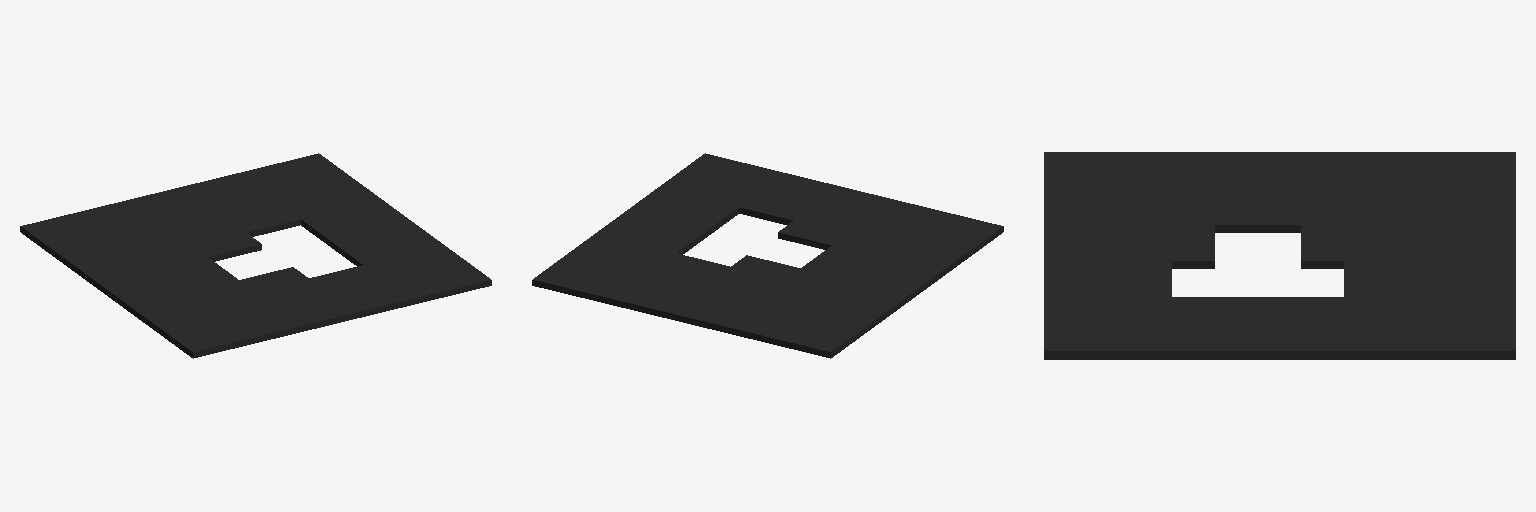
The robot description file, URDF, robot "Room104":
<robot name="Room104">
    <link name="_name">
        <visual> 
            <origin rpy="0.0 0.0 0.0" xyz="-0.4915450403617942 -0.5051182892298169 -0.009999999999999998" />
                <geometry>
                    <mesh filename="Room104/Room104.obj" scale="1 1 0.1" />
                </geometry>

            <material name="black">
                <color rgba="0.2 0.2 0.2 0.95" />
            </material>
        </visual>

       <collision concave="yes" name="collision_0">
            <origin rpy="0.0 0.0 0.0" xyz="-0.4915450403617942 -0.5051182892298169 -0.009999999999999998" />
            <geometry>
                <mesh filename="Room104/Room104_vhacd.obj" scale="1 1 0.1" />
            </geometry>
        </collision>

        <inertial> 
            <mass value="0" />
            <inertia ixx="0" ixy="0" ixz="0" iyy="0" iyz="0" izz="0" />
        </inertial> 
    </link>
</robot>

--- Render facts (derived) ---
3 views of the same robot in one strip: view 1: azimuth 30°, elevation 25°; view 2: azimuth 150°, elevation 25°; view 3: azimuth 270°, elevation 25° (orthographic).
Robot: Room104 — 1 links, 0 joints (none); root link _name; default pose: all joints at 0.
Visible links, largest first — view 1: _name; view 2: _name; view 3: _name.
Link boxes in pixels (x1,y1,x2,y2): _name: [20, 153, 491, 358]; _name: [532, 153, 1003, 358]; _name: [1044, 152, 1515, 359].
Bounding box of the posed robot: 1 × 1 × 0.02 m (x, y, z).
Meshes: 1 distinct files referenced, 1 mesh visuals loaded (1 OBJ).